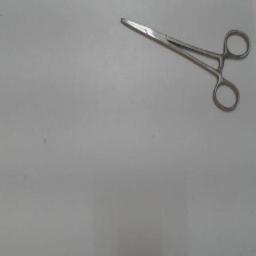Mayo Needle Holder: (111, 8, 253, 118)
